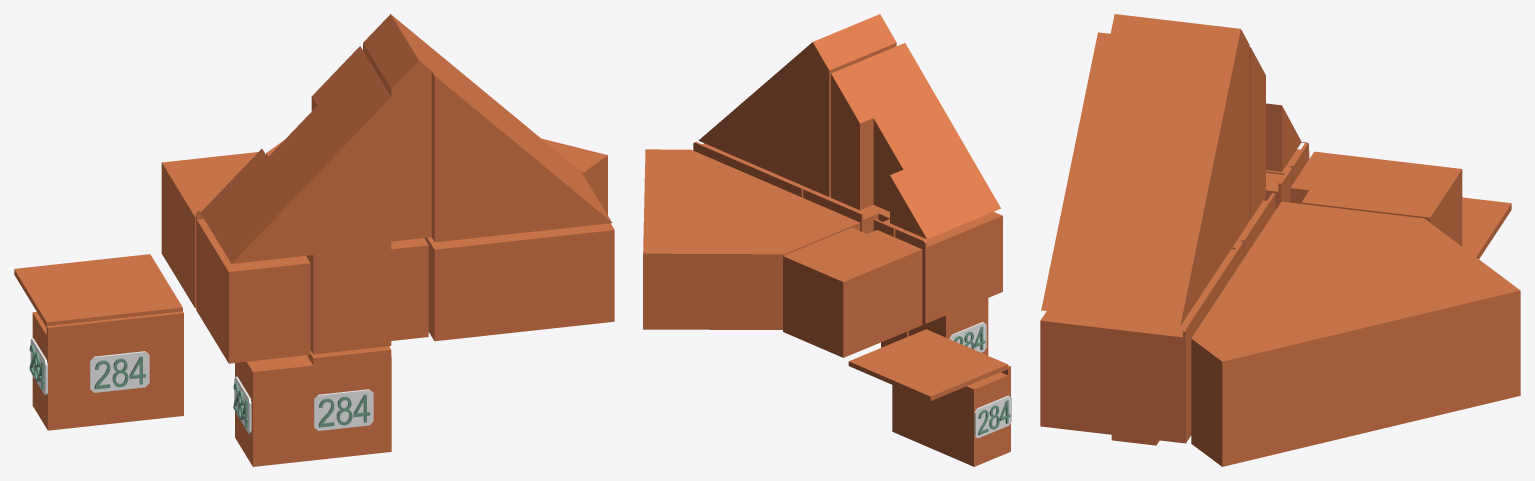
3 views of the same model, side by side, from view 1: azimuth 30°, elevation 25°; view 2: azimuth 150°, elevation 25°; view 3: azimuth 270°, elevation 25° (orthographic). The views are drawn at different scales.
Parts seen in each view (by area): view 1: g_2, g_6, g_3, g_1, g_9, g_4, g_13, g_12, g_11, g_10, g_0, g_8 (+3 smaller); view 2: g_5, g_3, g_10, g_2, g_9, g_1, g_13, g_4, g_7, g_0, g_6, g_29 (+1 smaller); view 3: g_5, g_2, g_6, g_10, g_3, g_13, g_7, g_9.
Part boxes in pixels (<box>): g_2: <box>363,14,612,242</box>; g_6: <box>424,169,614,341</box>; g_3: <box>198,46,379,263</box>; g_1: <box>32,311,183,430</box>; g_9: <box>196,210,310,363</box>; g_4: <box>303,79,391,255</box>; g_13: <box>14,254,182,327</box>; g_12: <box>289,346,391,462</box>; g_11: <box>306,247,391,354</box>; g_10: <box>161,152,257,308</box>; g_0: <box>235,357,295,466</box>; g_8: <box>391,238,428,340</box>; g_5: <box>643,149,860,329</box>; g_3: <box>831,54,1000,241</box>; g_10: <box>783,227,922,357</box>; g_2: <box>698,14,896,196</box>; g_9: <box>895,211,1002,323</box>; g_1: <box>892,365,1010,466</box>; g_13: <box>848,329,1007,401</box>; g_4: <box>879,43,951,133</box>; g_7: <box>803,189,905,237</box>; g_0: <box>908,298,988,355</box>; g_6: <box>693,142,813,197</box>; g_29: <box>974,395,1011,438</box>; g_5: <box>1191,201,1520,466</box>; g_2: <box>1041,14,1249,326</box>; g_6: <box>1040,241,1243,443</box>; g_10: <box>1290,151,1462,246</box>; g_3: <box>1249,47,1307,219</box>; g_13: <box>1462,197,1511,258</box>; g_7: <box>1231,167,1292,258</box>; g_9: <box>1266,143,1309,184</box>.
Bounding box in the file's own units: 13.83 × 10.1 × 9.92.
